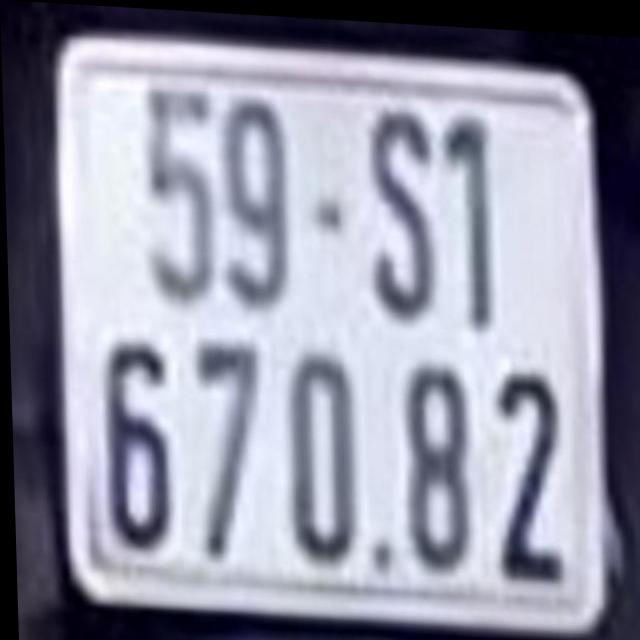0: (286, 343, 354, 563)
1: (441, 111, 499, 319)
2: (493, 365, 568, 574)
5: (138, 81, 217, 298)
6: (88, 337, 177, 556)
7: (184, 339, 258, 560)
8: (400, 349, 467, 565)
9: (220, 92, 287, 309)
S: (364, 105, 432, 317)
